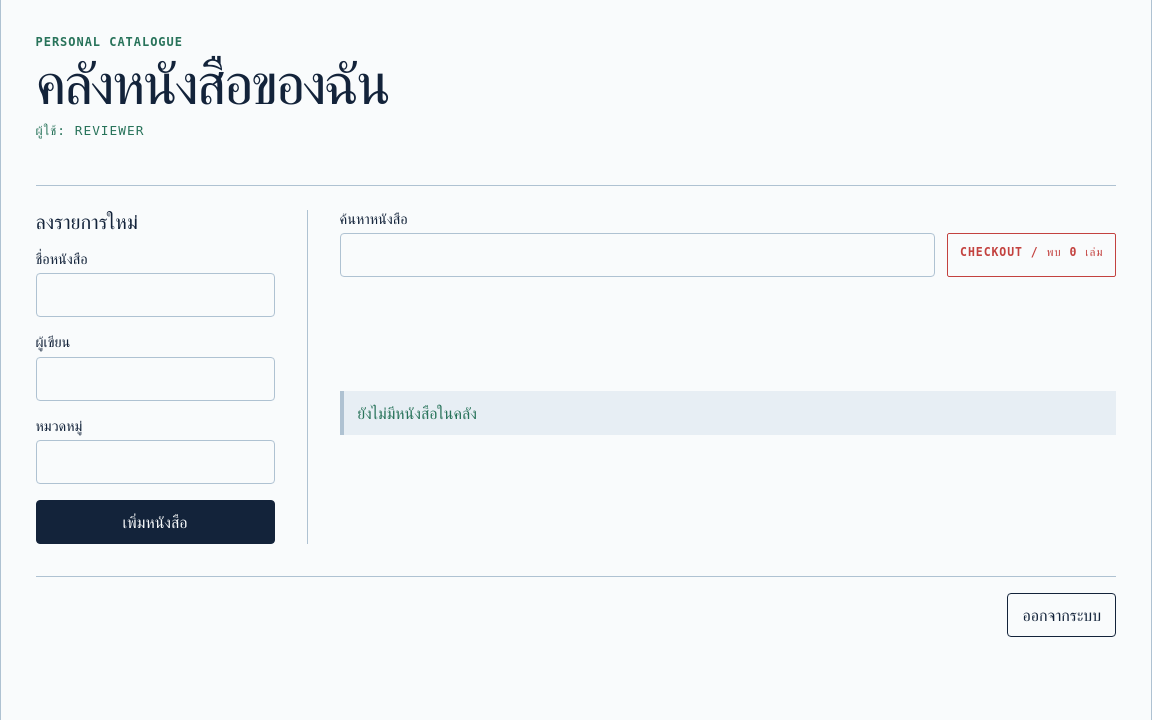
Test: LoginPage › clears persisted auth when the user logs out
Click the button "ออกจากระบบ" at {"x": 1062, "y": 615}, box [1007,593,1116,637]
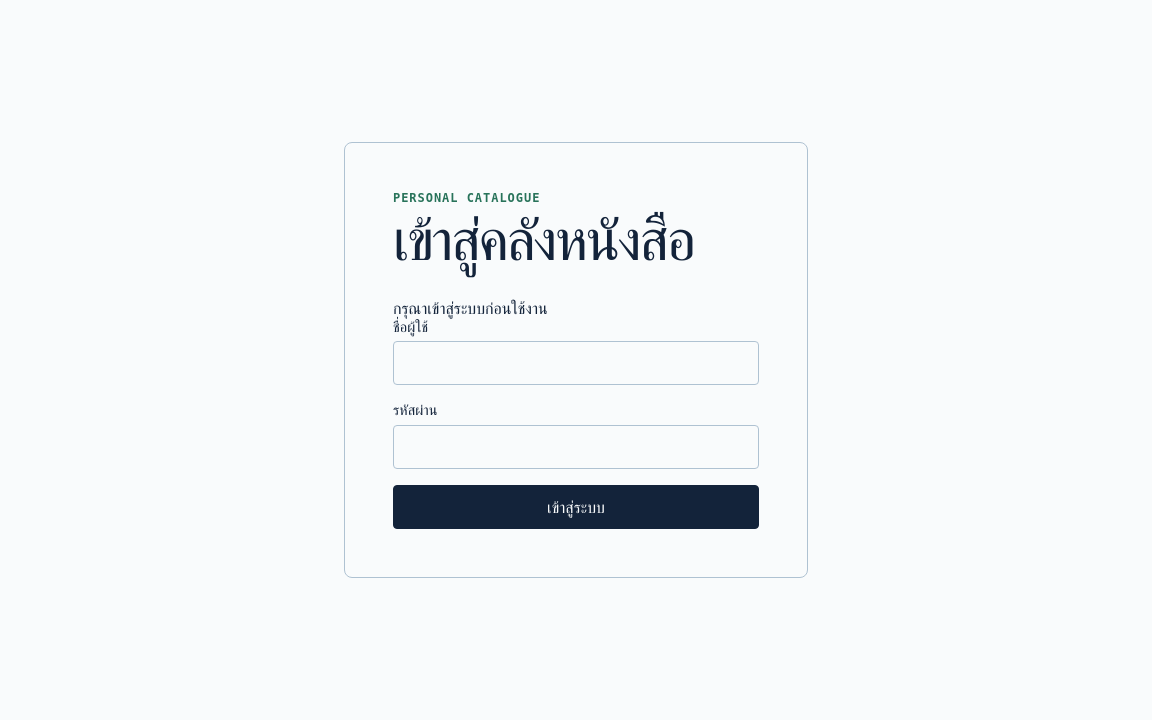
Check: the heading "เข้าสู่คลังหนังสือ" is shown, box [393,209,694,272]
